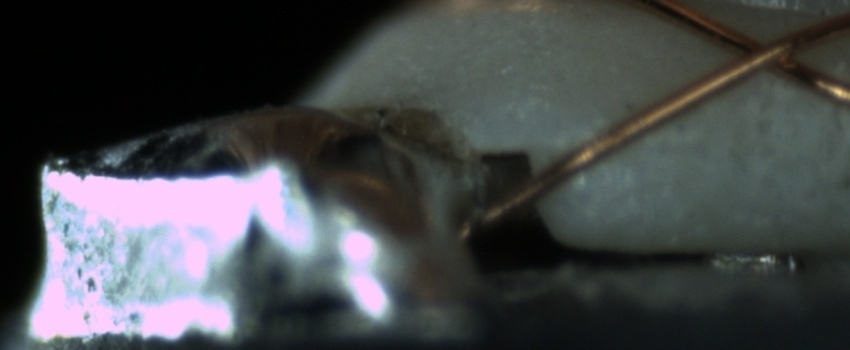CL: (710, 22, 818, 87)
